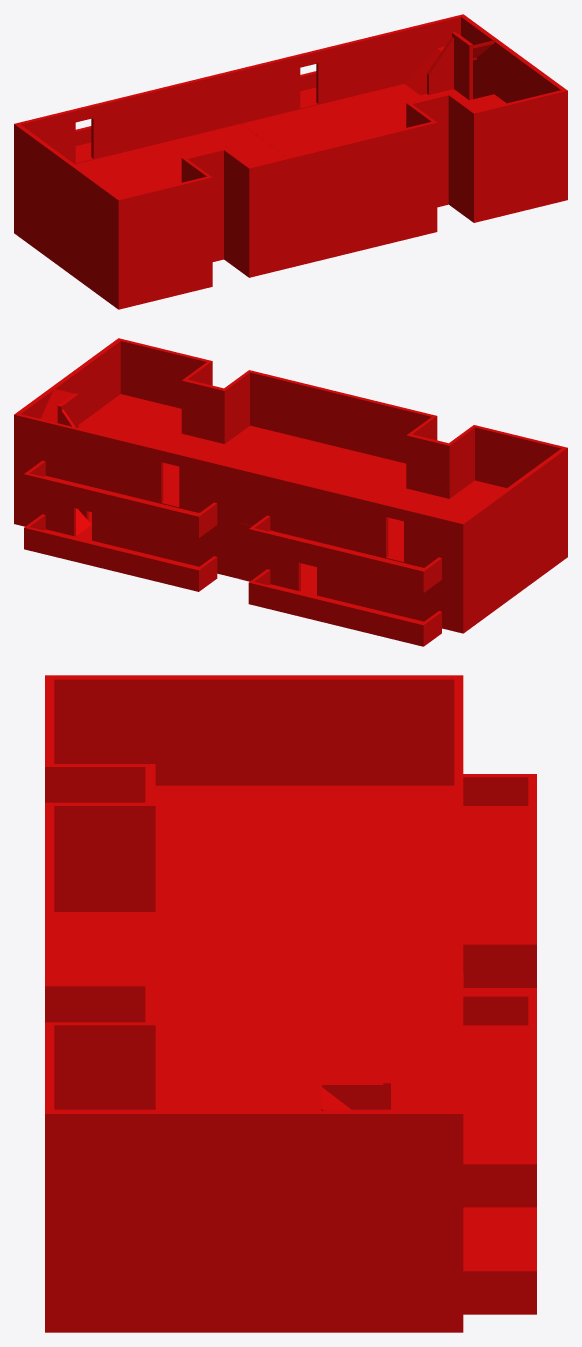
The model's file is SM_Bld_HighRise_Large_01_Interior_Stack_01_Collision.fbx.
3 views of the same model, one above another, from view 1: azimuth 30°, elevation 25°; view 2: azimuth 150°, elevation 25°; view 3: azimuth 270°, elevation 25° (orthographic). The views are drawn at different scales.
Visible parts, largest first — view 1: SM_Bld_HighRise_Large_01_Interior_Stack_01_Collision; view 2: SM_Bld_HighRise_Large_01_Interior_Stack_01_Collision; view 3: SM_Bld_HighRise_Large_01_Interior_Stack_01_Collision.
Boxes of the visible parts, x1=… form: SM_Bld_HighRise_Large_01_Interior_Stack_01_Collision: x1=14, y1=14, x2=567, y2=309; SM_Bld_HighRise_Large_01_Interior_Stack_01_Collision: x1=14, y1=338, x2=567, y2=646; SM_Bld_HighRise_Large_01_Interior_Stack_01_Collision: x1=45, y1=675, x2=536, y2=1332.
Bounding box in the file's own units: 2581 × 641 × 1224.
